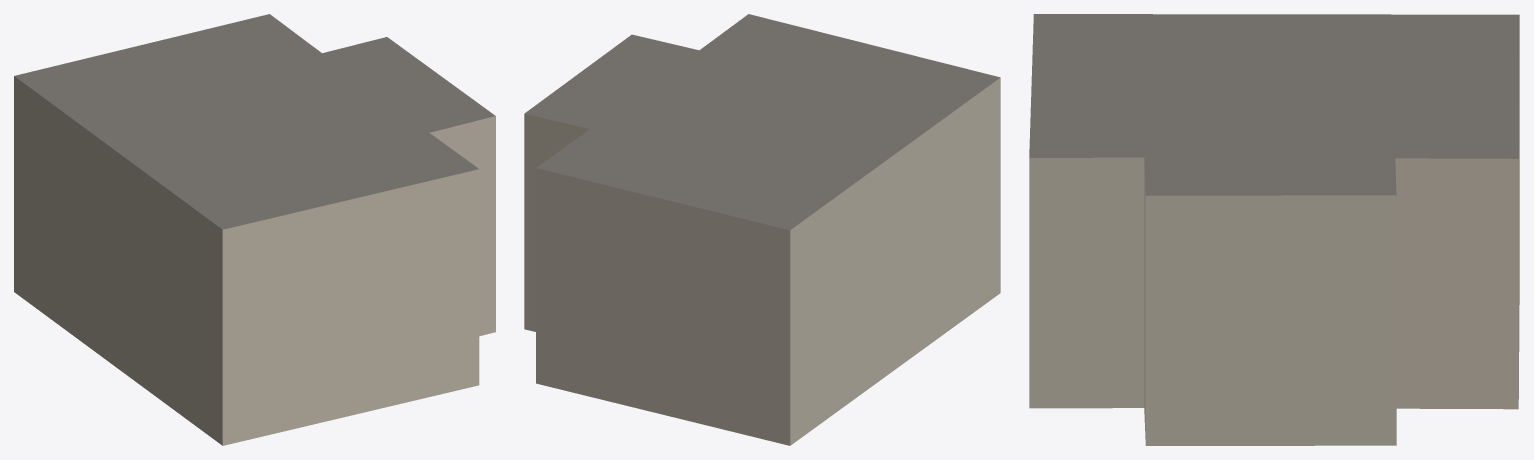
The picture shows the model from 3 angles, left to right: view 1: azimuth 30°, elevation 25°; view 2: azimuth 150°, elevation 25°; view 3: azimuth 270°, elevation 25°; orthographic projection. The views are drawn at different scales.
Parts seen in each view (by area): view 1: HP-w1153724040; view 2: HP-w1153724040; view 3: HP-w1153724040.
Part boxes in pixels (x1,y1,x2,y2): HP-w1153724040: [14, 14, 495, 445]; HP-w1153724040: [524, 14, 1000, 445]; HP-w1153724040: [1029, 14, 1519, 445].
Bounding box in the file's own units: 28 × 18 × 31.96.
